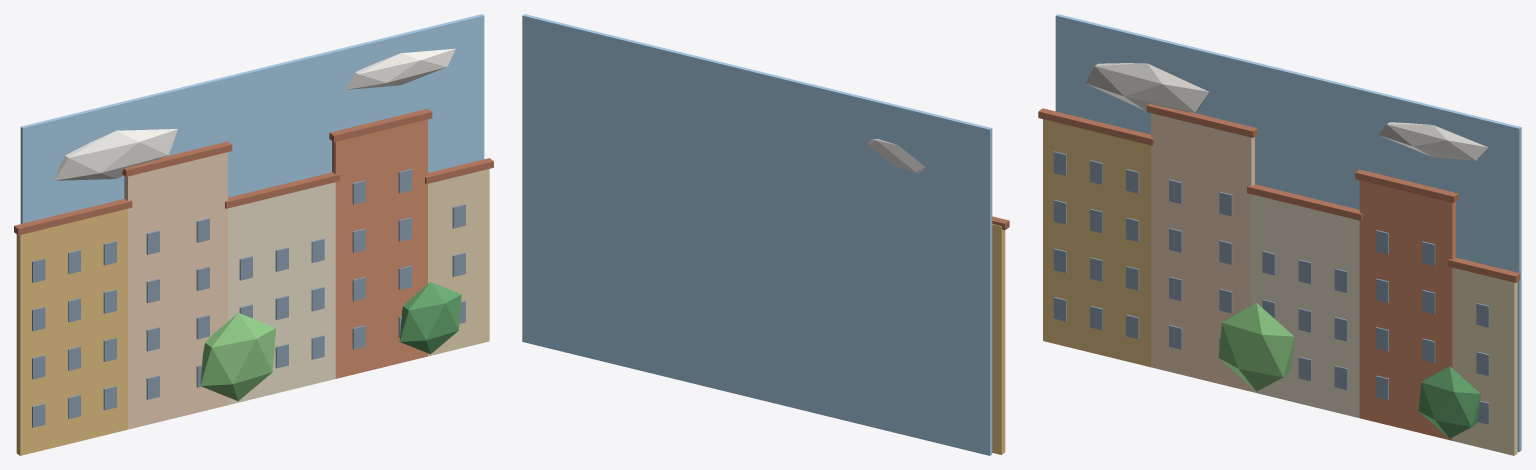
Rendered from env_flat_exterior_view_01.glb.
The picture shows the model from 3 angles, left to right: view 1: azimuth 30°, elevation 25°; view 2: azimuth 150°, elevation 25°; view 3: azimuth 330°, elevation 25°; orthographic projection.
Parts seen in each view (by area): view 1: env_flat_exterior_view_01_body; view 2: env_flat_exterior_view_01_body; view 3: env_flat_exterior_view_01_body.
Part boxes in pixels (left/top/right/bottom): env_flat_exterior_view_01_body: left=14, top=14, right=493, bottom=455; env_flat_exterior_view_01_body: left=522, top=14, right=1009, bottom=455; env_flat_exterior_view_01_body: left=1038, top=14, right=1521, bottom=455.
Bounding box in the file's own units: 6.18 × 4 × 0.3754.
